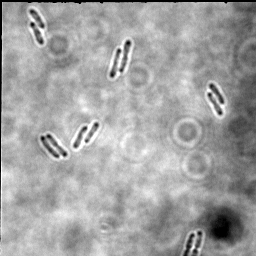Dividing: (44, 133, 69, 159), (117, 39, 133, 74), (206, 92, 224, 118), (190, 229, 205, 255), (181, 232, 196, 255)
Rod: (39, 135, 61, 160), (108, 47, 122, 79), (71, 125, 88, 151), (83, 122, 101, 145), (29, 22, 46, 46), (28, 8, 46, 30), (208, 83, 226, 105)
